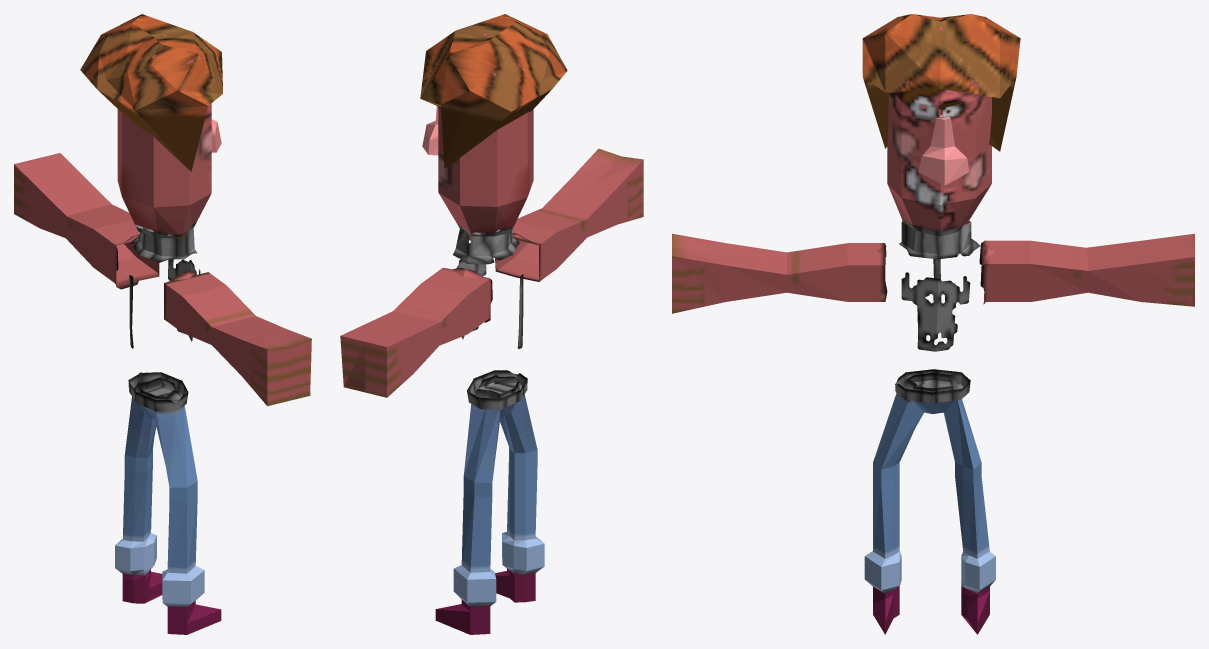
Rendered from Badguy2A.glb.
3 views of the same model, side by side, from view 1: azimuth 30°, elevation 25°; view 2: azimuth 150°, elevation 25°; view 3: azimuth 270°, elevation 25° (orthographic). The views are drawn at different scales.
Parts seen in each view (by area): view 1: Badguy2A; view 2: Badguy2A; view 3: Badguy2A.
Boxes of the visible parts, left/top/right/bottom form: Badguy2A: left=14, top=14, right=311, bottom=634; Badguy2A: left=340, top=14, right=643, bottom=634; Badguy2A: left=672, top=14, right=1194, bottom=634.
Bounding box in the file's own units: 20.68 × 90.27 × 71.6.
Materials: 1 (1 with a texture image).
